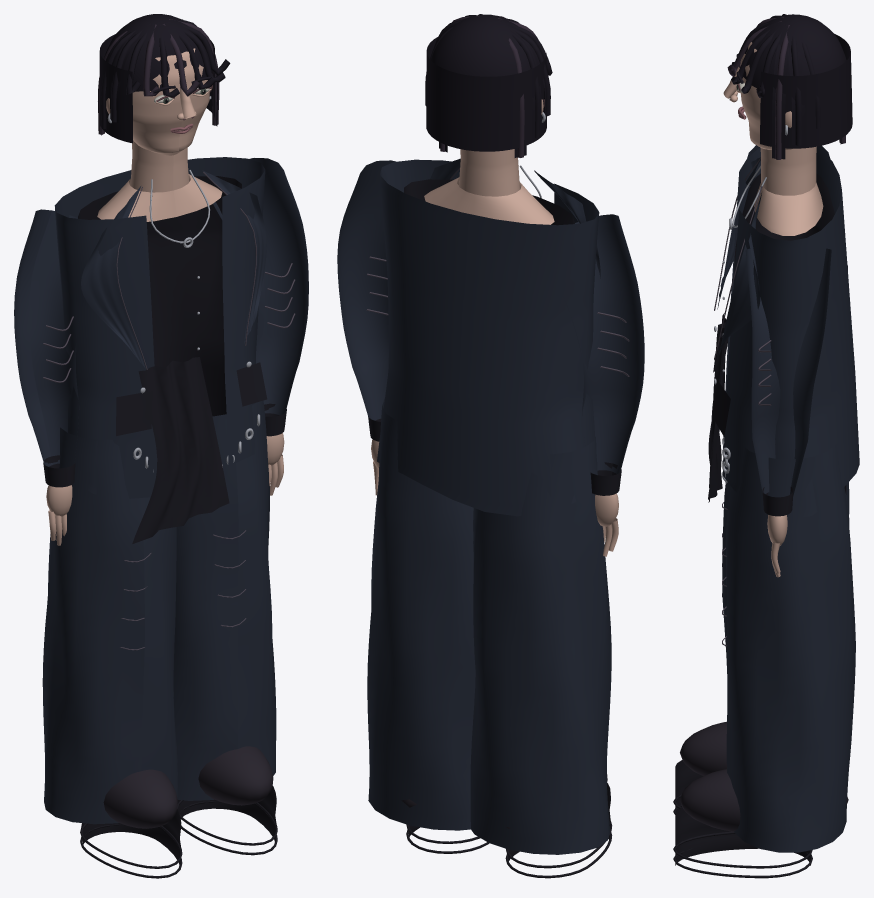
File: look-9-crowd.glb
The picture shows the model from 3 angles, left to right: view 1: azimuth 30°, elevation 25°; view 2: azimuth 150°, elevation 25°; view 3: azimuth 270°, elevation 25°; orthographic projection. The views are drawn at different scales.
Visible parts, largest first — view 1: look-9-crowd, leg-0, leg-1, arm-0, arm-1; view 2: look-9-crowd, leg-0, leg-1, arm-0, arm-1; view 3: leg-1, look-9-crowd, arm-1, leg-0.
Boxes of the visible parts, x1=… form: look-9-crowd: x1=54, y1=14, x2=267, y2=543; leg-0: x1=42, y1=427, x2=182, y2=878; leg-1: x1=173, y1=400, x2=277, y2=855; arm-0: x1=14, y1=209, x2=84, y2=545; arm-1: x1=213, y1=158, x2=308, y2=495; look-9-crowd: x1=377, y1=14, x2=600, y2=516; leg-0: x1=470, y1=436, x2=612, y2=878; leg-1: x1=367, y1=398, x2=489, y2=853; arm-0: x1=564, y1=214, x2=644, y2=556; arm-1: x1=337, y1=160, x2=395, y2=495; leg-1: x1=673, y1=444, x2=855, y2=878; look-9-crowd: x1=708, y1=14, x2=859, y2=517; arm-1: x1=745, y1=248, x2=831, y2=577; leg-0: x1=673, y1=482, x2=849, y2=814.
Bounding box in the file's own units: 0.7544 × 2.04 × 0.4199.
